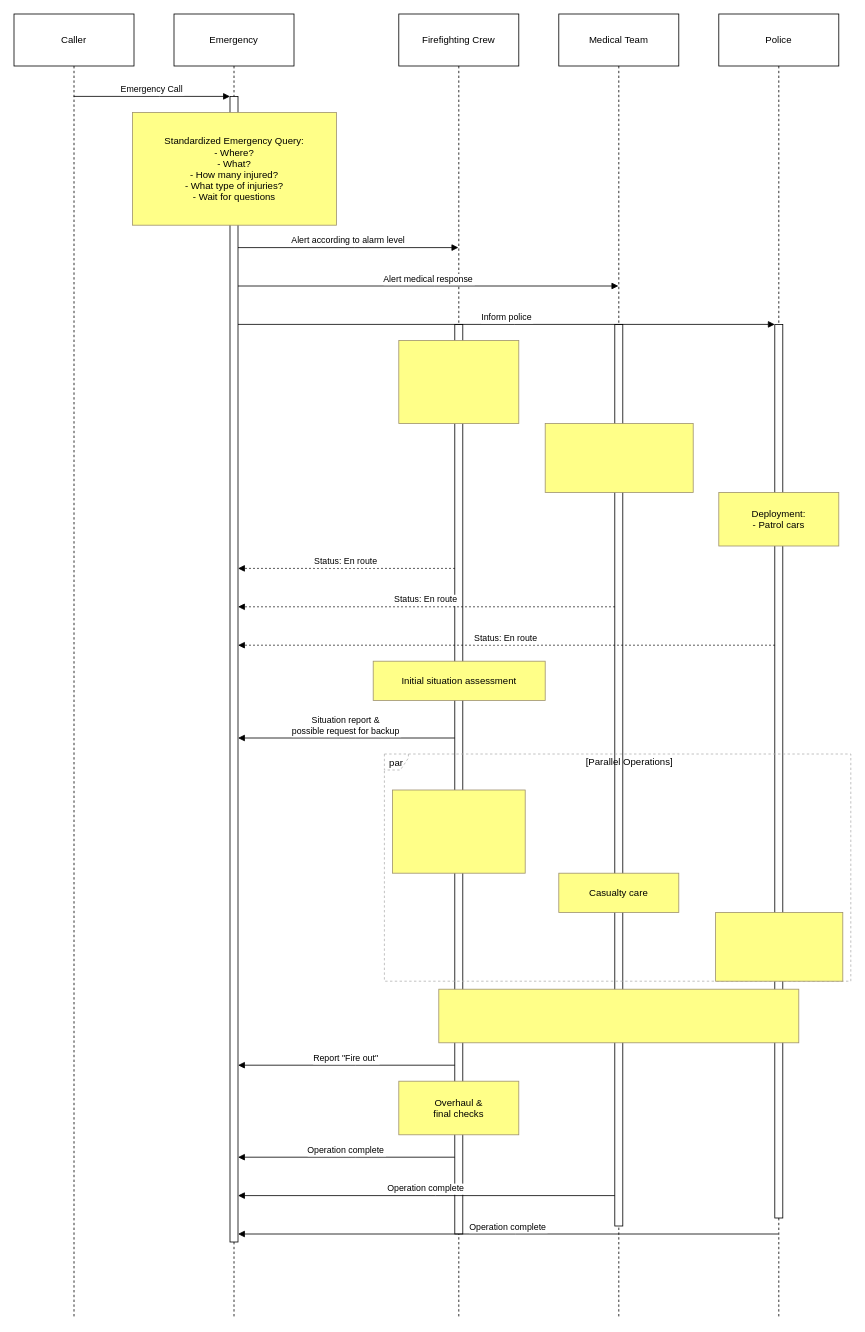
This 865x1332 diagram has some shape labels left out. Here are the shapes that lost their labels. From the top down, the centre of each, then its label:
At (458,382): "Deployment: - Fire engines - Ladder truck - Command unit".
At (618,457): "Deployment: - Ambulances - Emergency physician".
At (458,831): "Firefighting: - Rescue operations - Fire attack - Ventilation".
At (779,946): "Security measures: - Traffic control - Evacuation".
At (618,1015): "Ongoing coordination between response units".
